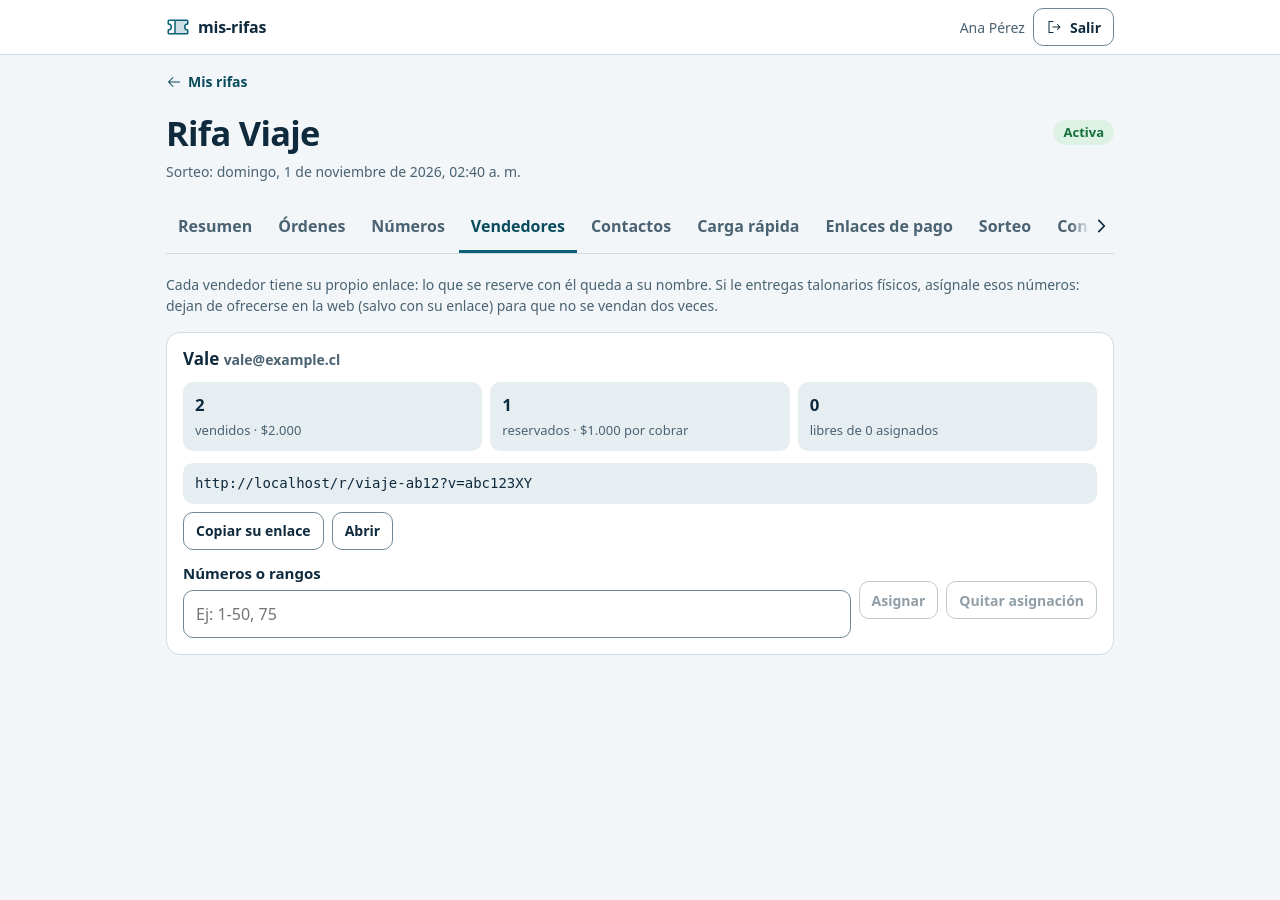
Test: panel: vendedores › asigna un rango a un vendedor
Type "6-10" into the field labelled "Números o rangos". click: (517, 614)
box: [183,590,851,638]
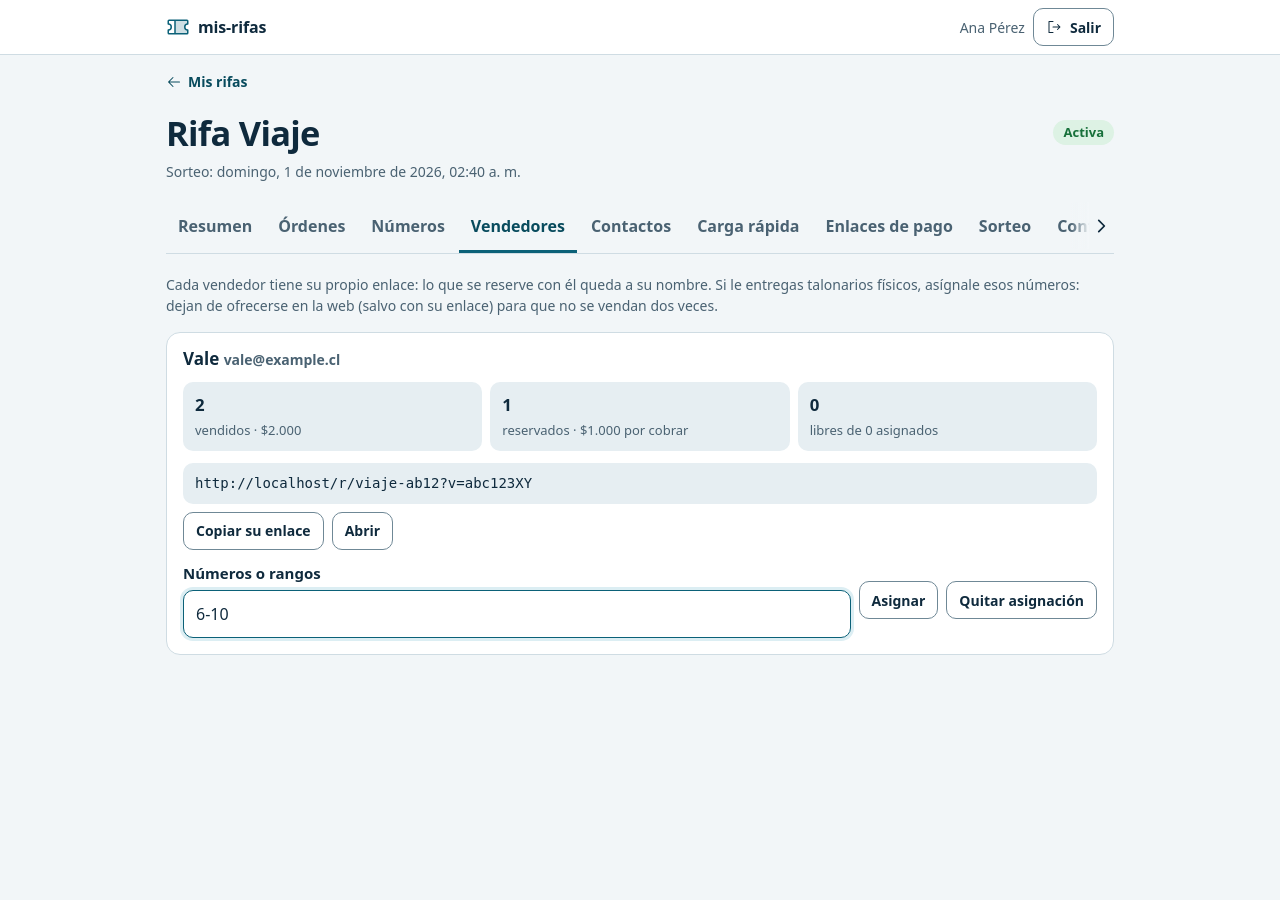
Click the button "Asignar". click: (898, 600)
box: [859,581,938,619]
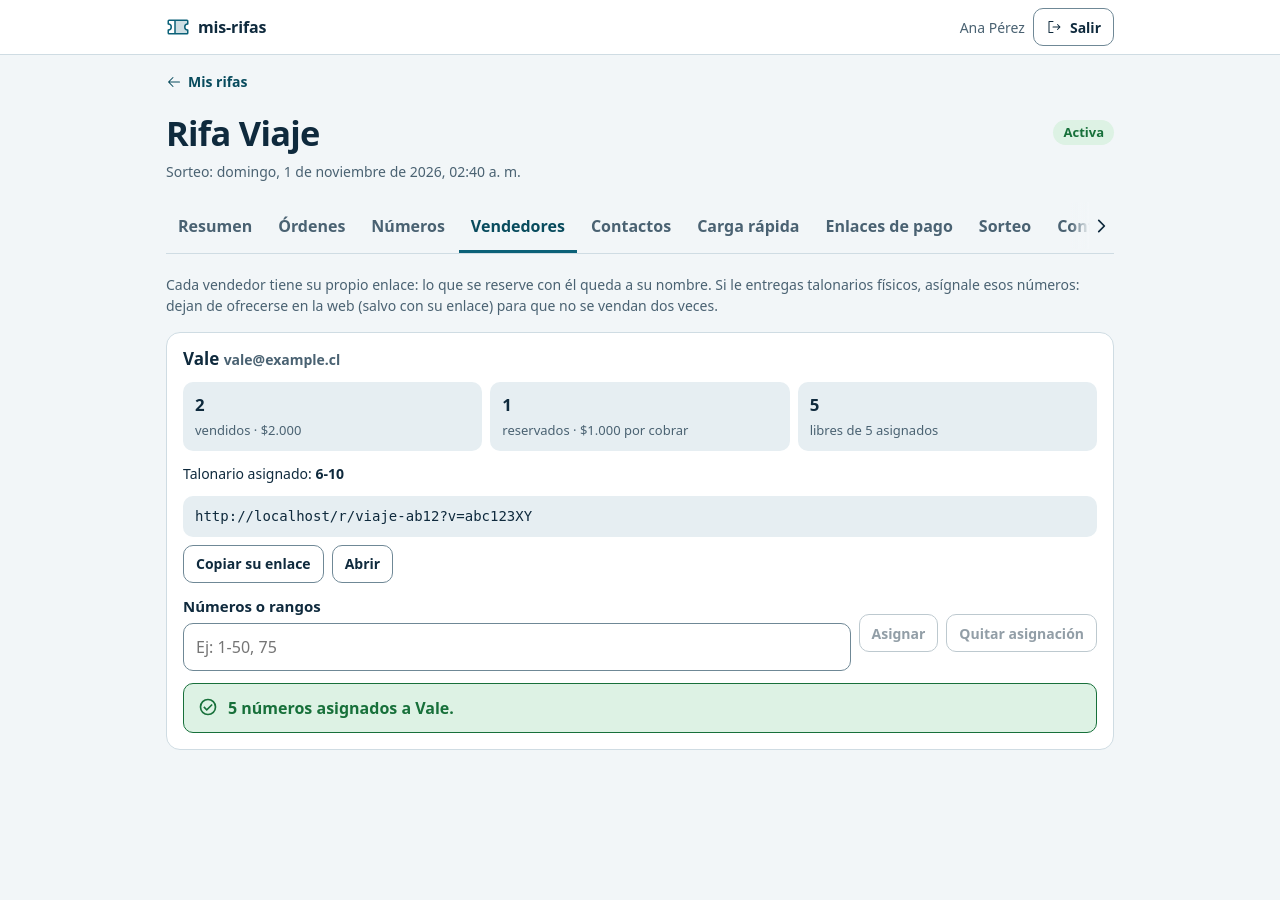
Expected: the text "5 números asignados a Vale." is shown, [183,683,1097,733]
Expected: the text "6-10" is shown, [315,464,344,483]
